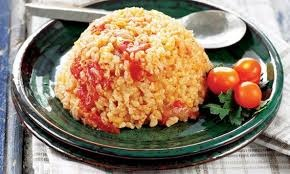pirinc_pilavi: (13, 10, 283, 167), (54, 7, 212, 131)
